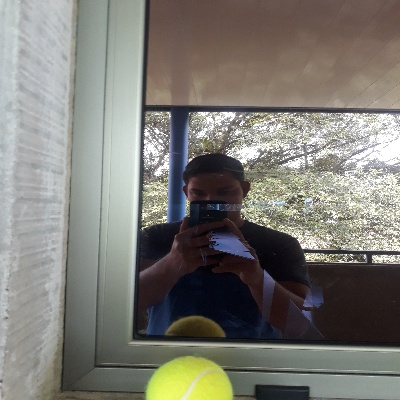Ball: (144, 356, 233, 398)
